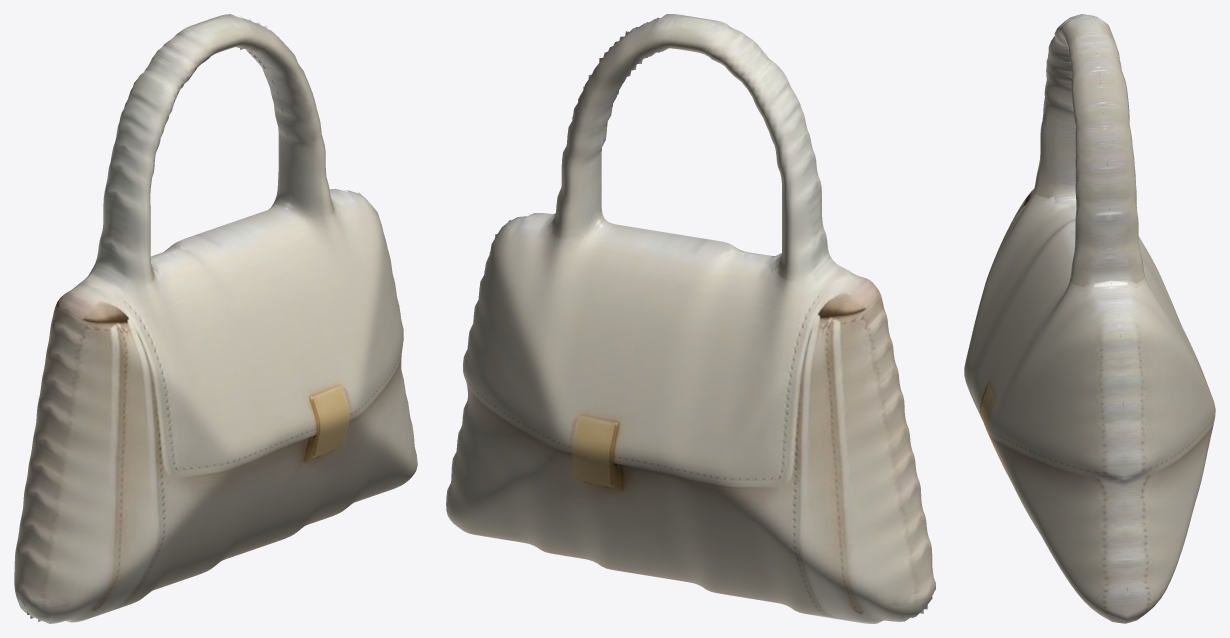
File: prod-ae-ivory-mini-bag.glb
The picture shows the model from 3 angles, left to right: view 1: azimuth 30°, elevation 25°; view 2: azimuth 150°, elevation 25°; view 3: azimuth 270°, elevation 25°; orthographic projection. The views are drawn at different scales.
Visible parts, largest first — view 1: prod-ae-ivory-mini-bag; view 2: prod-ae-ivory-mini-bag; view 3: prod-ae-ivory-mini-bag.
Boxes of the visible parts, box(x1,y1,x2,y2) form: prod-ae-ivory-mini-bag: box(14, 14, 417, 623); prod-ae-ivory-mini-bag: box(446, 14, 935, 623); prod-ae-ivory-mini-bag: box(964, 14, 1215, 623).
Size of the model in its own units: 0.1766 by 0.2182 by 0.0937.
Materials: 1 (1 with a texture image).
